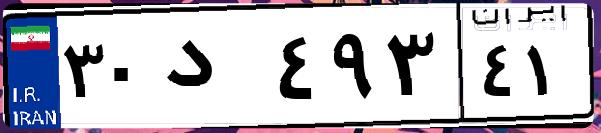0: (110, 28, 158, 98)
1: (525, 38, 570, 115)
3: (385, 28, 445, 110), (57, 26, 110, 100)
4: (270, 28, 330, 110), (475, 38, 525, 113)
9: (330, 28, 385, 110)
د: (158, 20, 270, 120)
